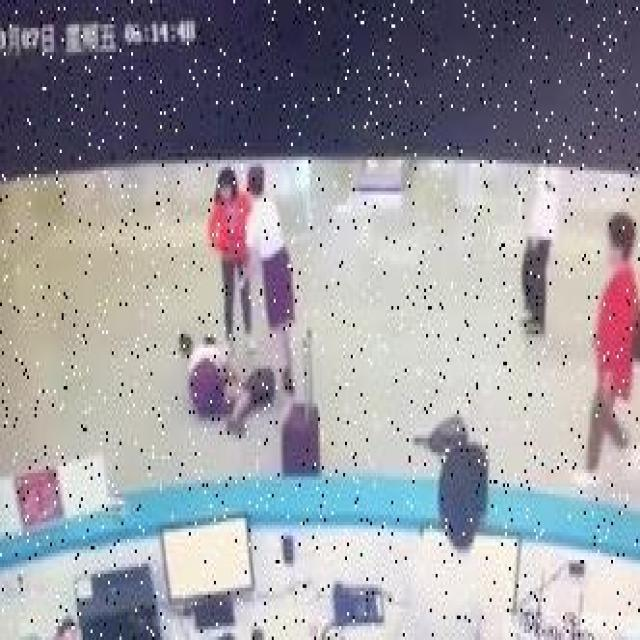fall: (178, 324, 256, 438)
